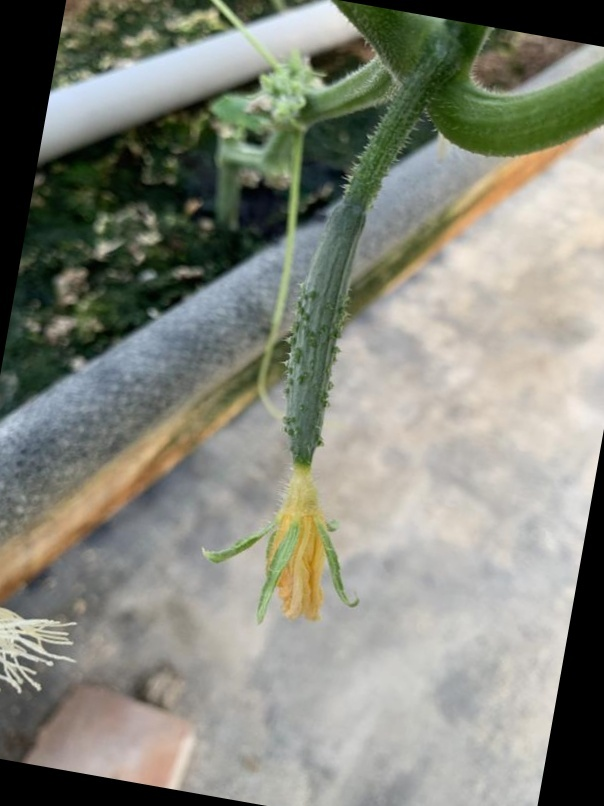bear: (213, 188, 396, 636)
